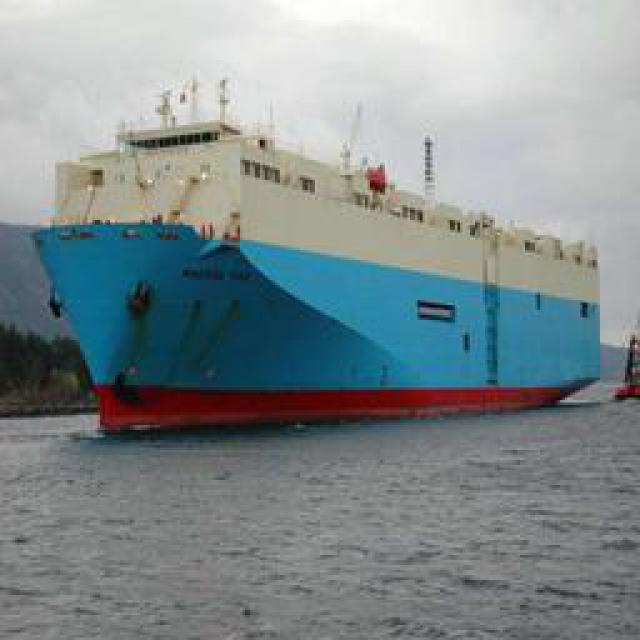Ship: (36, 83, 604, 438)
